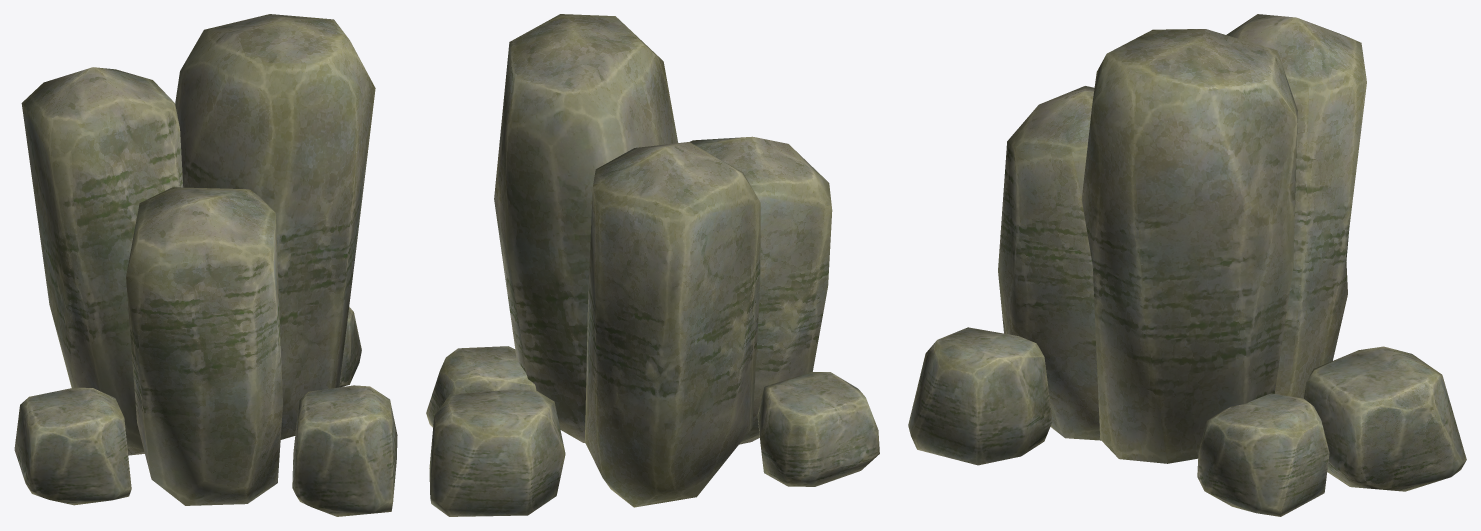
The model's file is SM_Crystal_stones_small_cluster.fbx.
3 renders of one model, left to right at view 1: azimuth 30°, elevation 25°; view 2: azimuth 150°, elevation 25°; view 3: azimuth 270°, elevation 25°, orthographic. The views are drawn at different scales.
Parts seen in each view (by area): view 1: SM_Crystal_stones_small_cluster_LOD0; view 2: SM_Crystal_stones_small_cluster_LOD0; view 3: SM_Crystal_stones_small_cluster_LOD0.
Boxes of the visible parts, x1=… form: SM_Crystal_stones_small_cluster_LOD0: x1=14, y1=14, x2=397, y2=516; SM_Crystal_stones_small_cluster_LOD0: x1=426, y1=14, x2=879, y2=516; SM_Crystal_stones_small_cluster_LOD0: x1=908, y1=14, x2=1466, y2=516.
Size of the model in its own units: 121 by 139 by 122.
